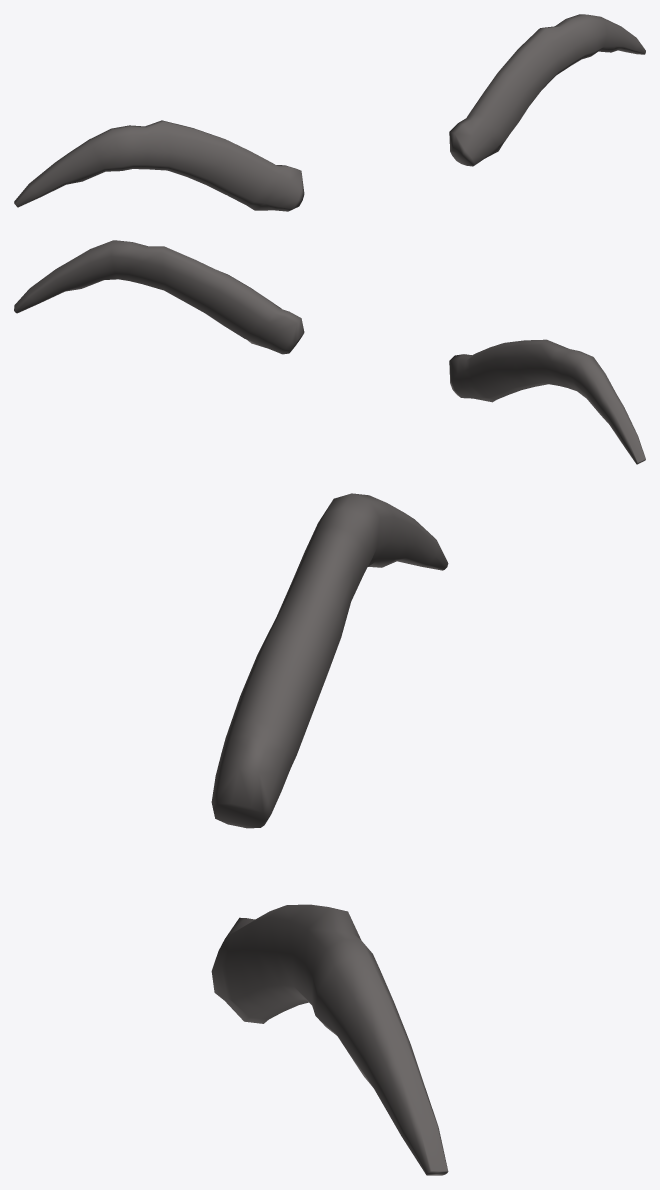
File: Eyebrows_18_04.fbx
3 views of the same model, one above another, from view 1: azimuth 30°, elevation 25°; view 2: azimuth 150°, elevation 25°; view 3: azimuth 270°, elevation 25° (orthographic). The views are drawn at different scales.
Parts seen in each view (by area): view 1: Eyebrows_18_04; view 2: Eyebrows_18_04; view 3: Eyebrows_18_04.
Part boxes in pixels (<box>): Eyebrows_18_04: <box>14,14,645,211</box>; Eyebrows_18_04: <box>14,240,645,464</box>; Eyebrows_18_04: <box>211,493,448,1175</box>.
Bounding box in the file's own units: 18.22 × 2.68 × 2.96.
